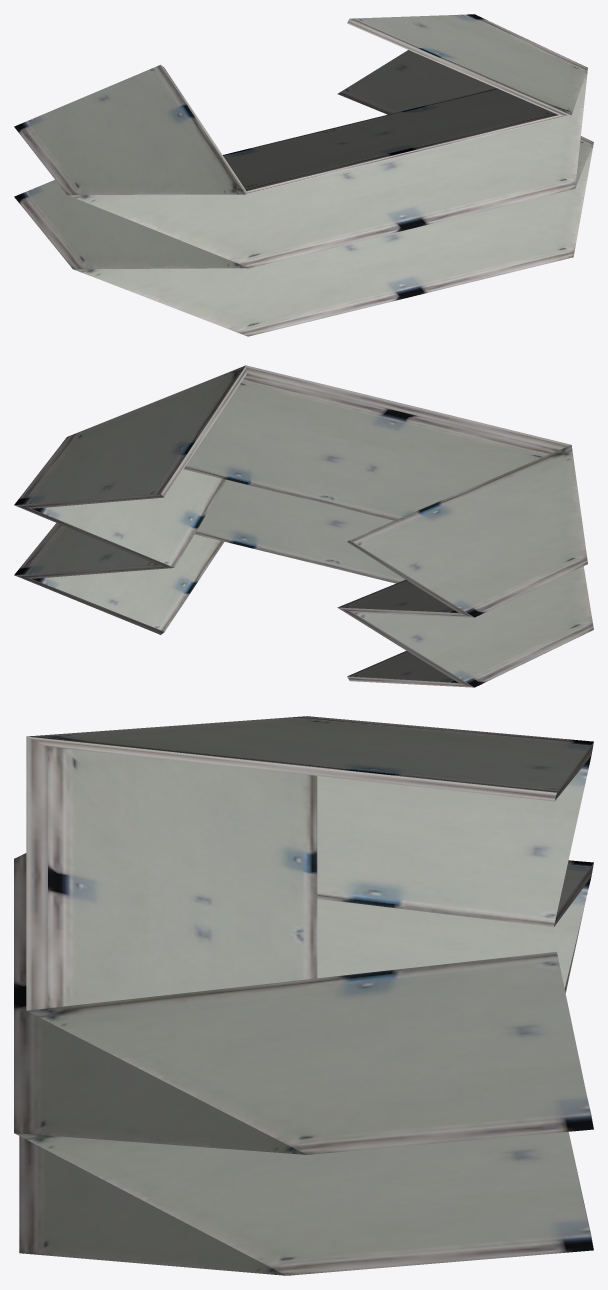
The model's file is cover.gltf.
The picture shows the model from 3 angles, top to bottom: view 1: azimuth 30°, elevation 25°; view 2: azimuth 150°, elevation 25°; view 3: azimuth 270°, elevation 25°; orthographic projection. The views are drawn at different scales.
Parts seen in each view (by area): view 1: Cover; view 2: Cover; view 3: Cover.
Part boxes in pixels (x1,y1,x2,y2): Cover: (14,14,593,336); Cover: (14,365,593,687); Cover: (14,716,593,1275).
Bounding box in the file's own units: 1.24 × 0.3211 × 0.6921.
1 material, 1 textured.
